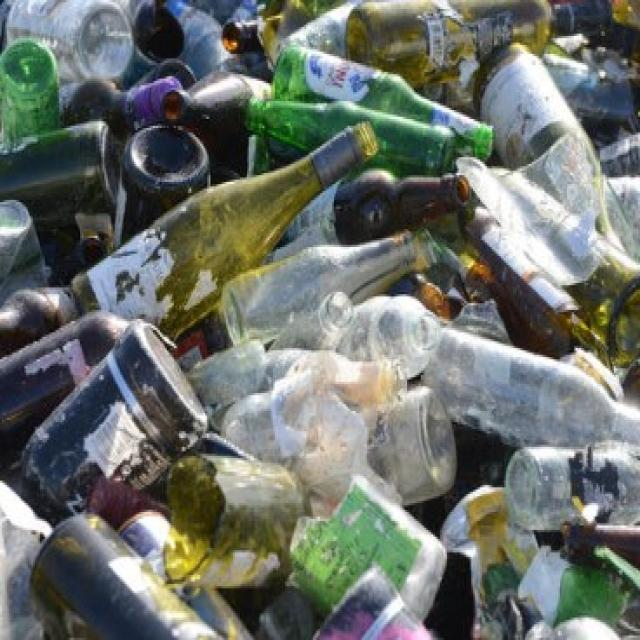electronic: (70, 115, 380, 348), (20, 314, 210, 532)
